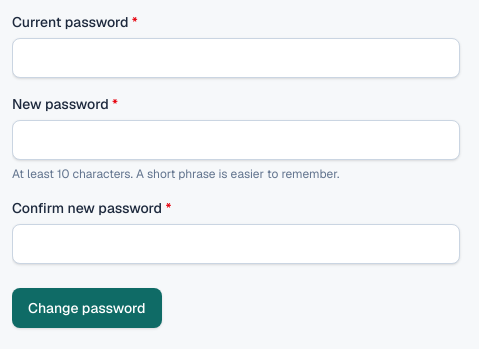
ChangePasswordForm › rejects passwords shorter than 10 characters
In the password field labelled "Current password *": (236, 58) [12, 38, 460, 78], type "old-password"
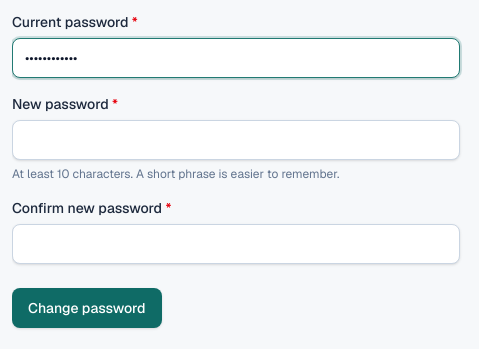
In the password field labelled "New password *": (236, 140) [12, 120, 460, 160], type "short1"
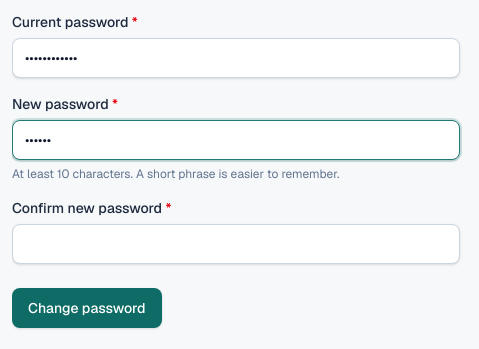
In the password field labelled "Confirm new password *": (236, 244) [12, 224, 460, 264], type "short1"
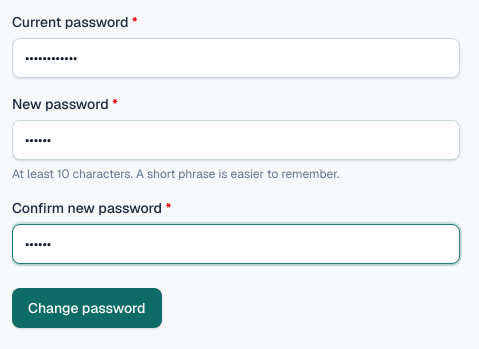
Click the button "Change password": (87, 308) [12, 288, 162, 328]
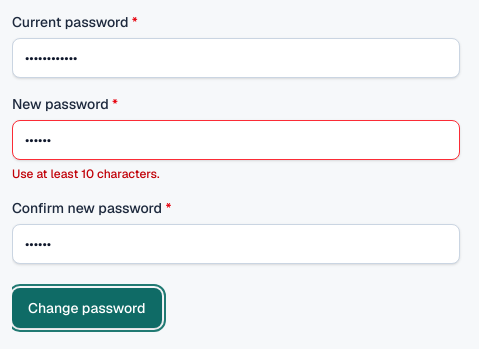
Check: the text "Use at least 10 characters." is shown, box [12, 166, 160, 182]
